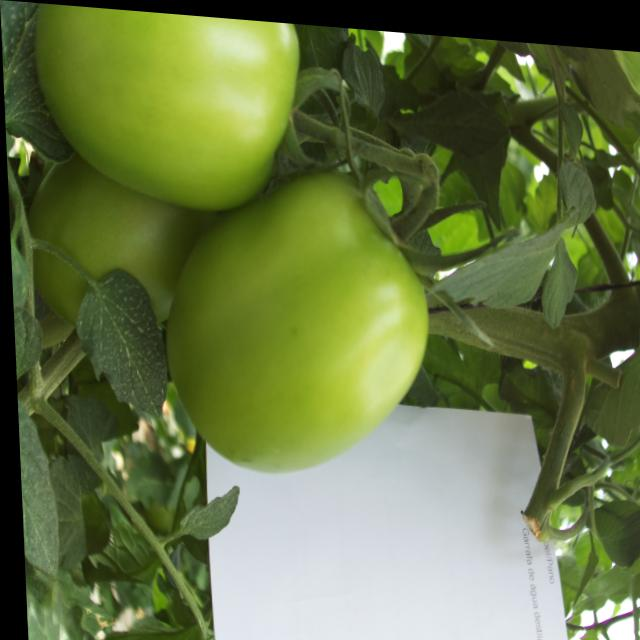kirmizi: (0, 0, 477, 482)
